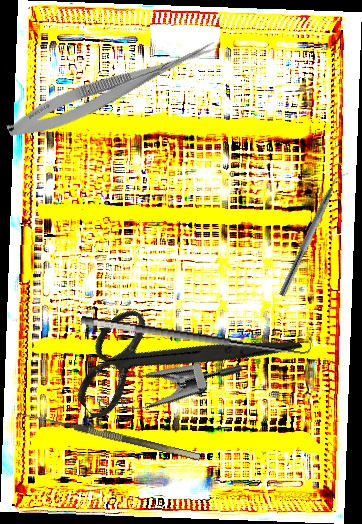Chopper: (278, 167, 351, 301)
Hook Surgical: (79, 297, 314, 364), (14, 408, 201, 471)
Iris Scissors: (52, 236, 304, 481)
Micro Scissor: (3, 27, 221, 149)
Speculum: (80, 307, 245, 440)
